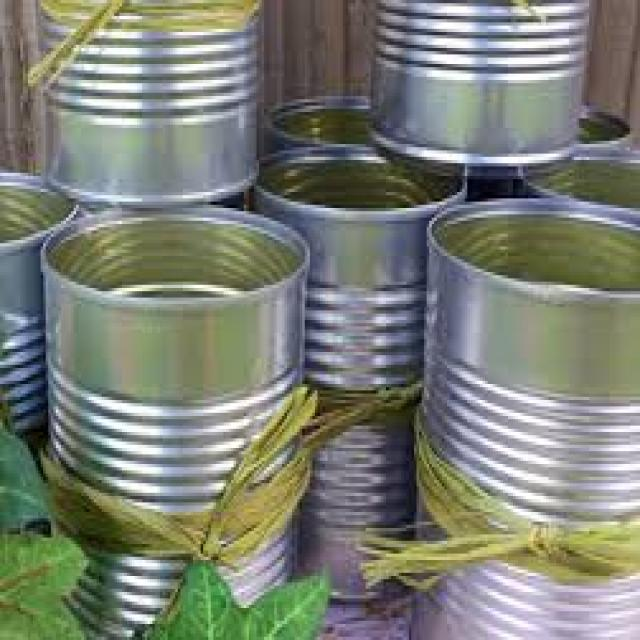organic waste: (140, 557, 328, 637), (0, 525, 89, 637), (0, 419, 46, 531)
